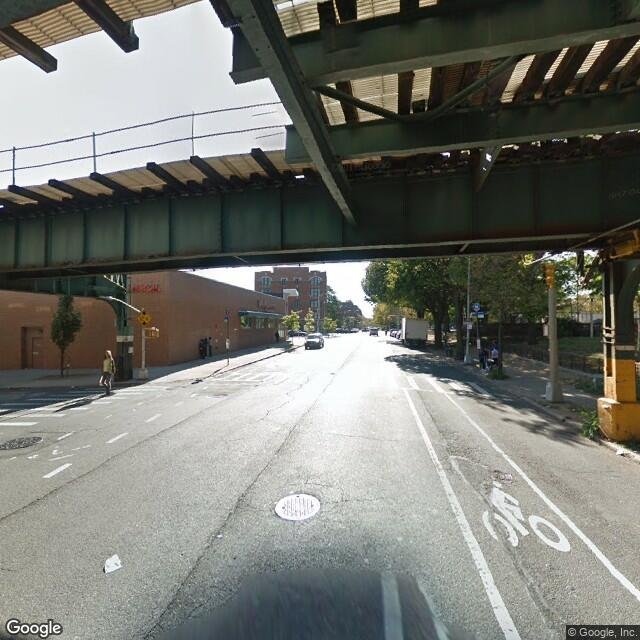litter: (92, 546, 128, 581), (612, 440, 626, 469)
